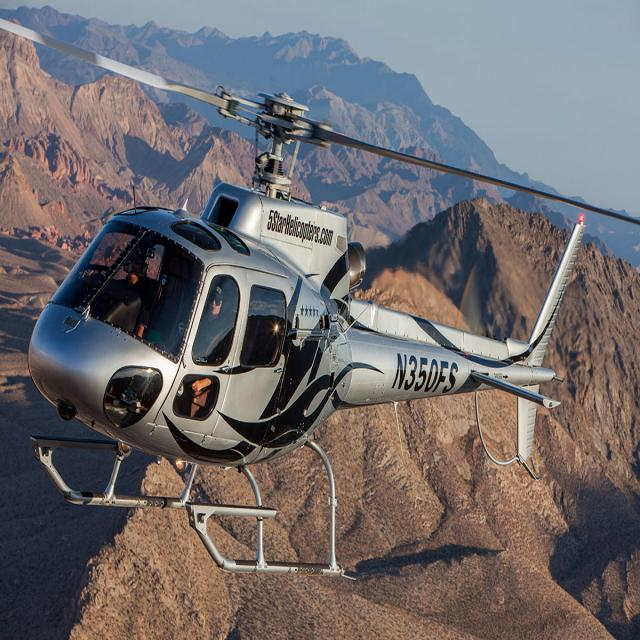helicopter: (1, 17, 640, 578)
